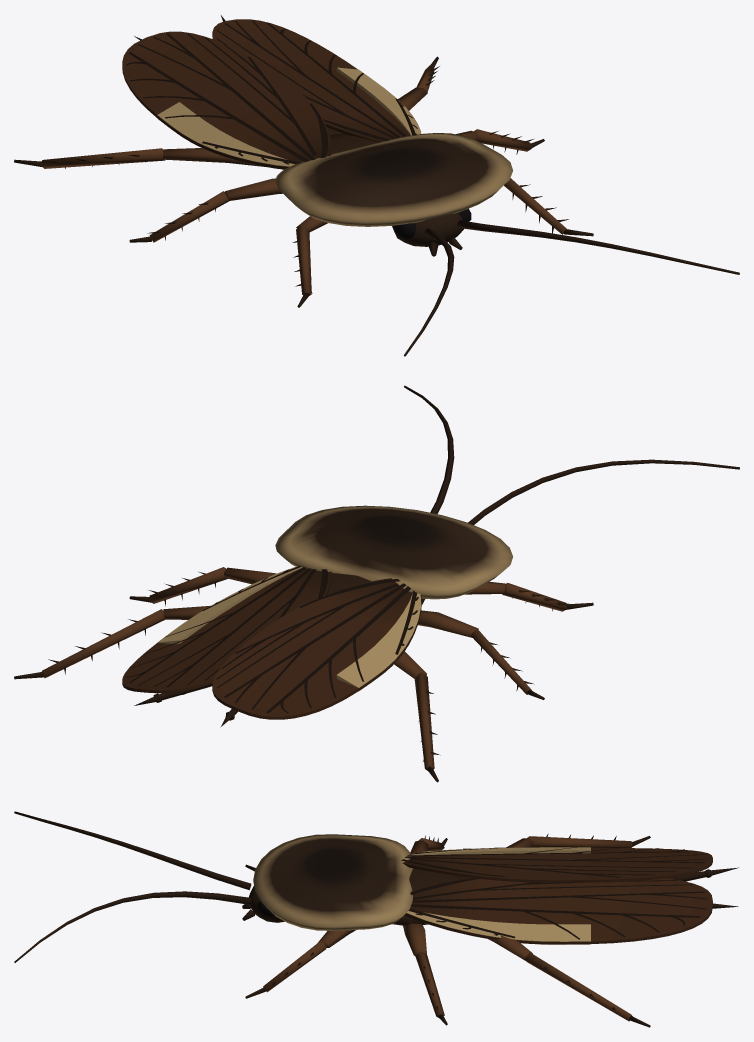
File: ArchimylacrisEggintoni.fbx
The picture shows the model from 3 angles, top to bottom: view 1: azimuth 30°, elevation 25°; view 2: azimuth 150°, elevation 25°; view 3: azimuth 270°, elevation 25°; orthographic projection. The views are drawn at different scales.
Visible parts, largest first — view 1: ArchimylacrisEggintoni; view 2: ArchimylacrisEggintoni; view 3: ArchimylacrisEggintoni.
Part boxes in pixels (<box>): ArchimylacrisEggintoni: <box>14,15,739,356</box>; ArchimylacrisEggintoni: <box>14,385,739,782</box>; ArchimylacrisEggintoni: <box>14,811,738,1027</box>.
Size of the model in its own units: 0.9242 by 0.1657 by 1.49.
